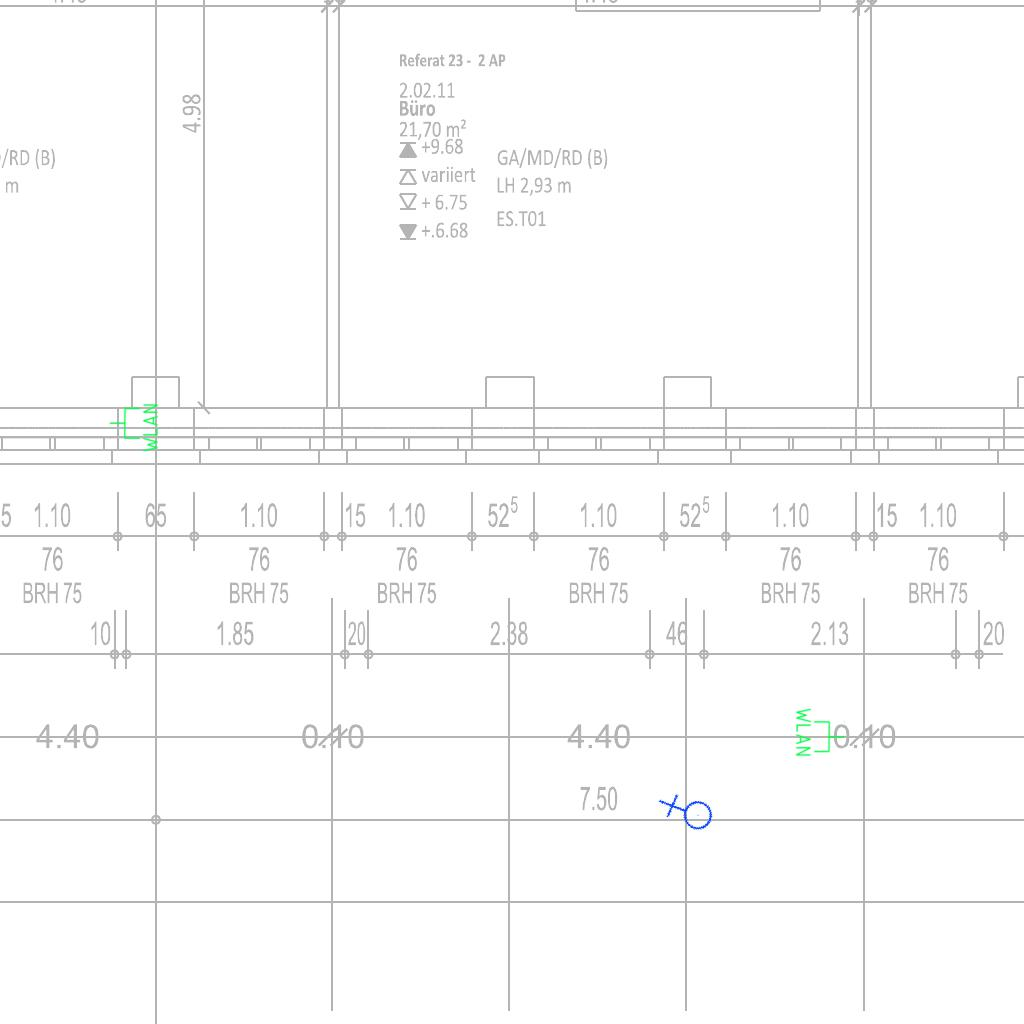Elektroanschluss_allgemein_230V_Geraeteanschlussdose_230V: (655, 781, 720, 846)
WLAN: (794, 706, 846, 758), (108, 402, 160, 454)
